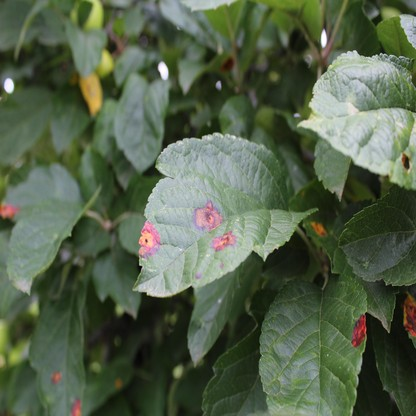rust: (138, 221, 160, 258), (194, 203, 225, 229), (403, 294, 416, 335), (353, 312, 367, 346), (213, 234, 236, 251), (311, 218, 326, 238), (0, 203, 16, 218), (72, 395, 80, 416), (52, 370, 62, 384), (113, 378, 122, 388)
